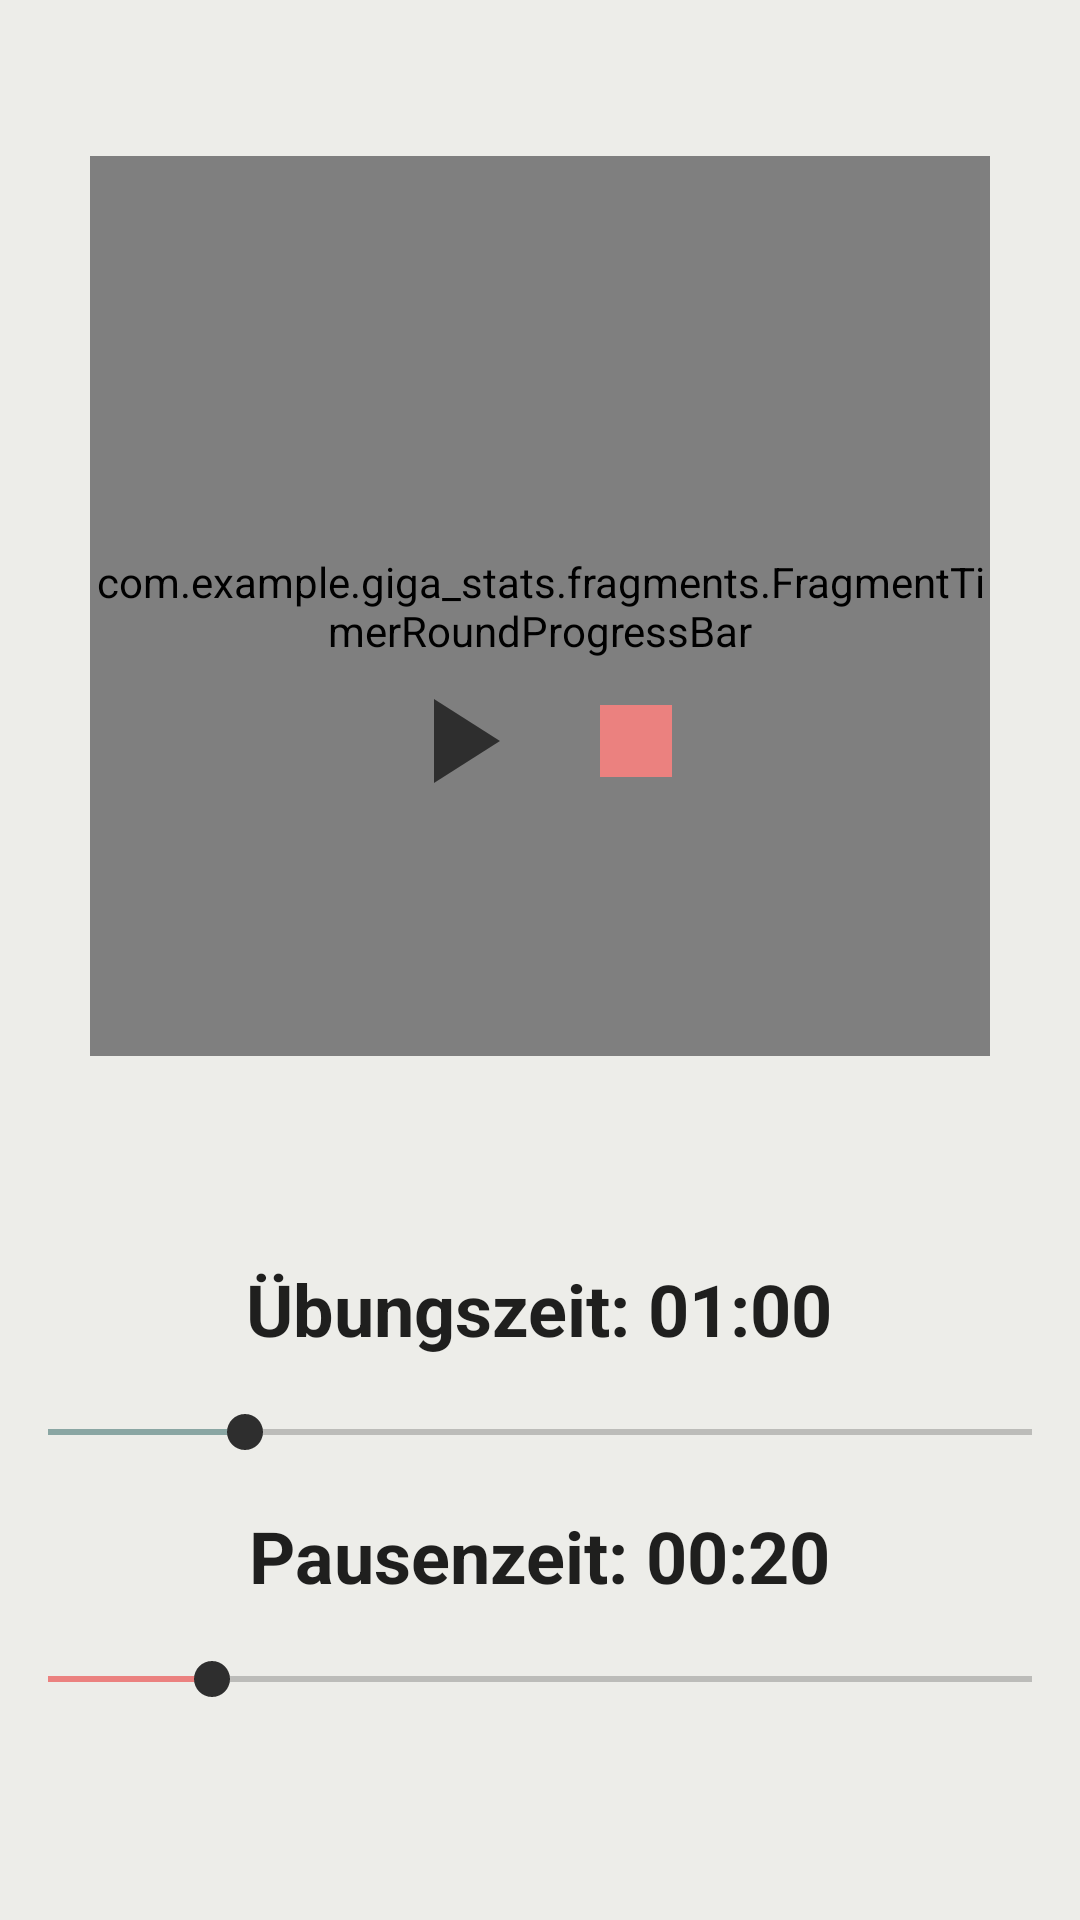

Icon click points for this 1080w x 1920h phone screenshot, format (x=x, y=y):
play arrow: (x=466, y=741)
